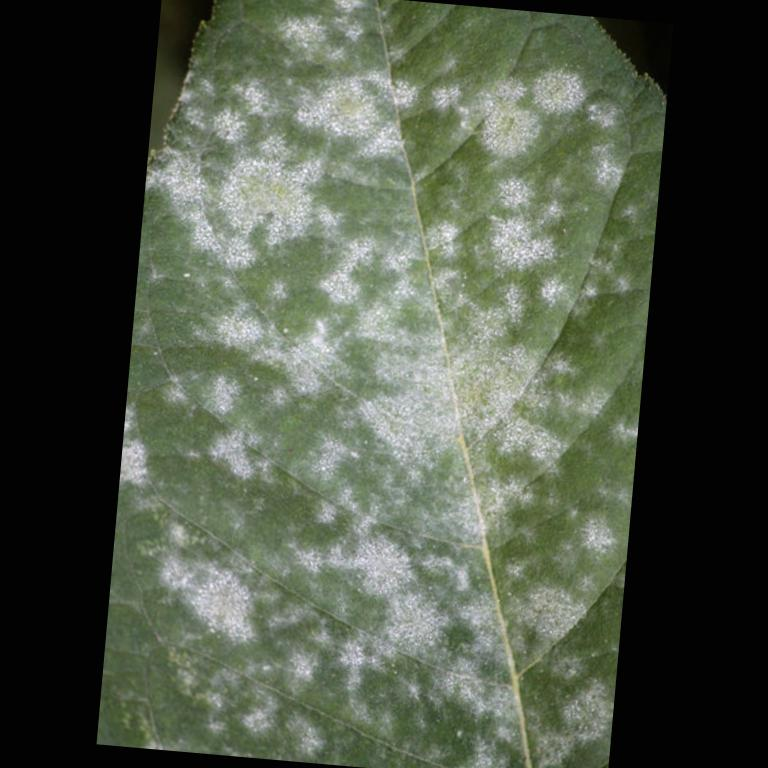powdery-mildew: (162, 26, 593, 682)
